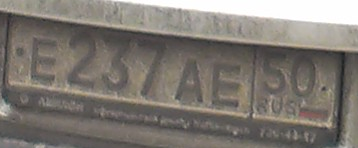character: (63, 27, 99, 90), (135, 35, 167, 97), (99, 31, 131, 92), (208, 59, 244, 112), (29, 36, 62, 89), (173, 57, 205, 104), (289, 50, 318, 99), (259, 49, 289, 95)
